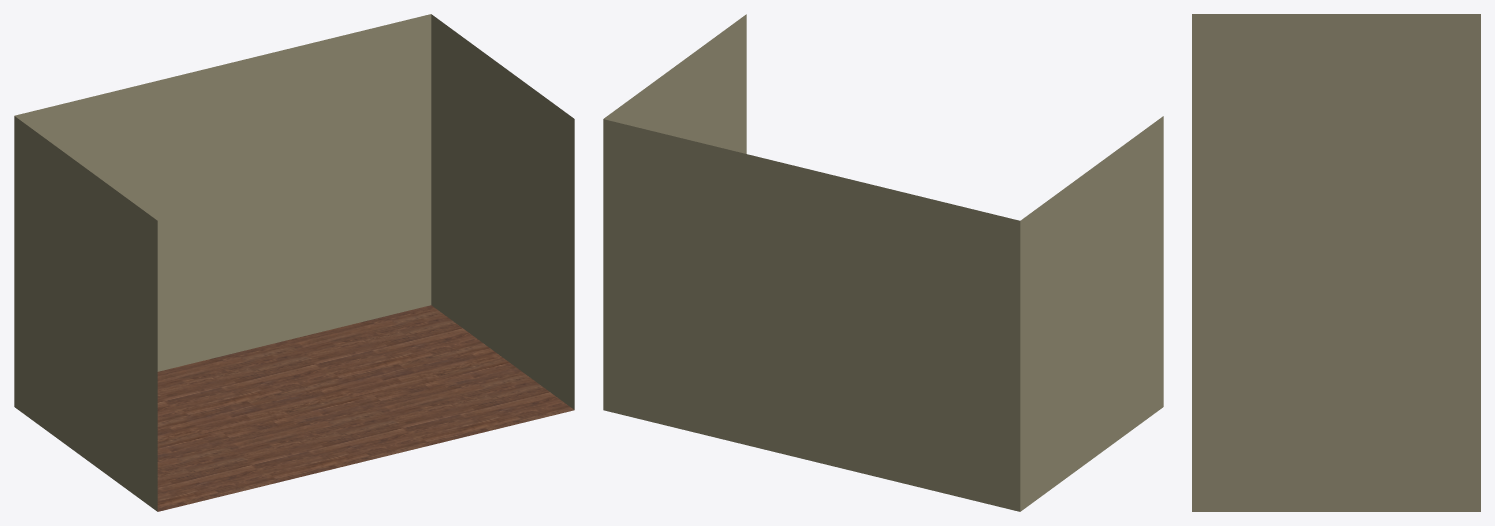
Rendered from room.glb.
The picture shows the model from 3 angles, left to right: view 1: azimuth 30°, elevation 25°; view 2: azimuth 150°, elevation 25°; view 3: azimuth 270°, elevation 25°; orthographic projection.
Visible parts, largest first — view 1: Plane; view 2: Plane; view 3: Plane.
Boxes of the visible parts, box(x1,y1,x2,y2) form: Plane: box(14, 14, 574, 511); Plane: box(603, 14, 1163, 511); Plane: box(1192, 14, 1480, 511).
Bounding box in the file's own units: 5.52 × 3.68 × 3.29.
Materials: 2 (1 with a texture image).
